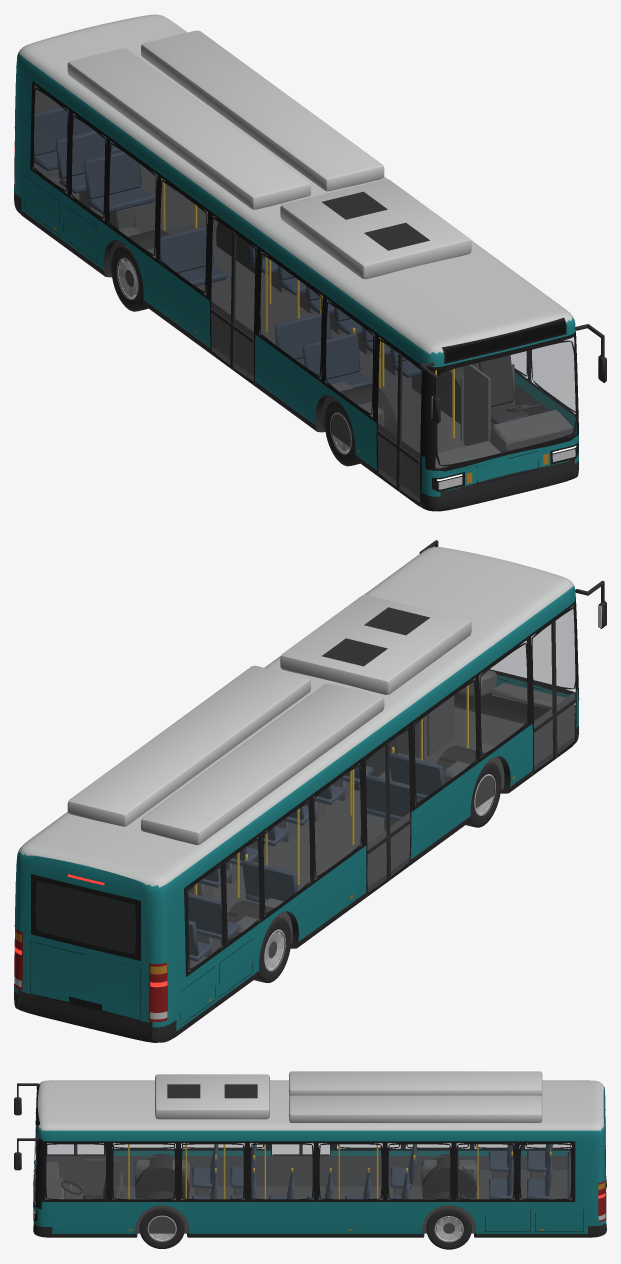
File: city_bus_near.glb
3 renders of one model, top to bottom at view 1: azimuth 30°, elevation 25°; view 2: azimuth 150°, elevation 25°; view 3: azimuth 270°, elevation 25°, orthographic. The views are drawn at different scales.
Parts seen in each view (by area): view 1: body, interior, roof_equipment, glass_side_R, glass_windscreen, glass_side_L, door_frames, wheel_RR_mesh, wheel_FR_mesh; view 2: body, roof_equipment, glass_side_R, interior, glass_rear, glass_windscreen, door_frames, wheel_RR_mesh, wheel_FR_mesh; view 3: body, glass_side_L, interior, roof_equipment, glass_side_R, wheel_RL_mesh, wheel_FL_mesh, door_frames.
Part boxes in pixels (x1,y1,x2,y2): body: (14, 14, 578, 511); interior: (33, 85, 574, 498); roof_equipment: (67, 30, 471, 279); glass_side_R: (32, 87, 422, 504); glass_windscreen: (434, 340, 577, 466); glass_side_L: (511, 337, 575, 412); door_frames: (210, 231, 420, 491); wheel_RR_mesh: (111, 245, 148, 311); wheel_FR_mesh: (324, 401, 359, 466); body: (14, 547, 578, 1042); roof_equipment: (67, 595, 471, 844); glass_side_R: (187, 606, 576, 970); interior: (186, 670, 574, 972); glass_rear: (33, 879, 138, 955); glass_windscreen: (489, 605, 575, 689); door_frames: (367, 621, 576, 880); wheel_RR_mesh: (236, 914, 291, 982); wheel_FR_mesh: (466, 762, 501, 827); body: (33, 1080, 606, 1237); glass_side_L: (44, 1142, 572, 1200); interior: (45, 1143, 571, 1233); roof_equipment: (155, 1071, 542, 1122); glass_side_R: (46, 1143, 571, 1155); wheel_RL_mesh: (426, 1208, 471, 1249); wheel_FL_mesh: (139, 1208, 184, 1248); door_frames: (47, 1144, 329, 1155).
Bounding box in the file's own units: 2.89 × 3.1 × 12.4.
